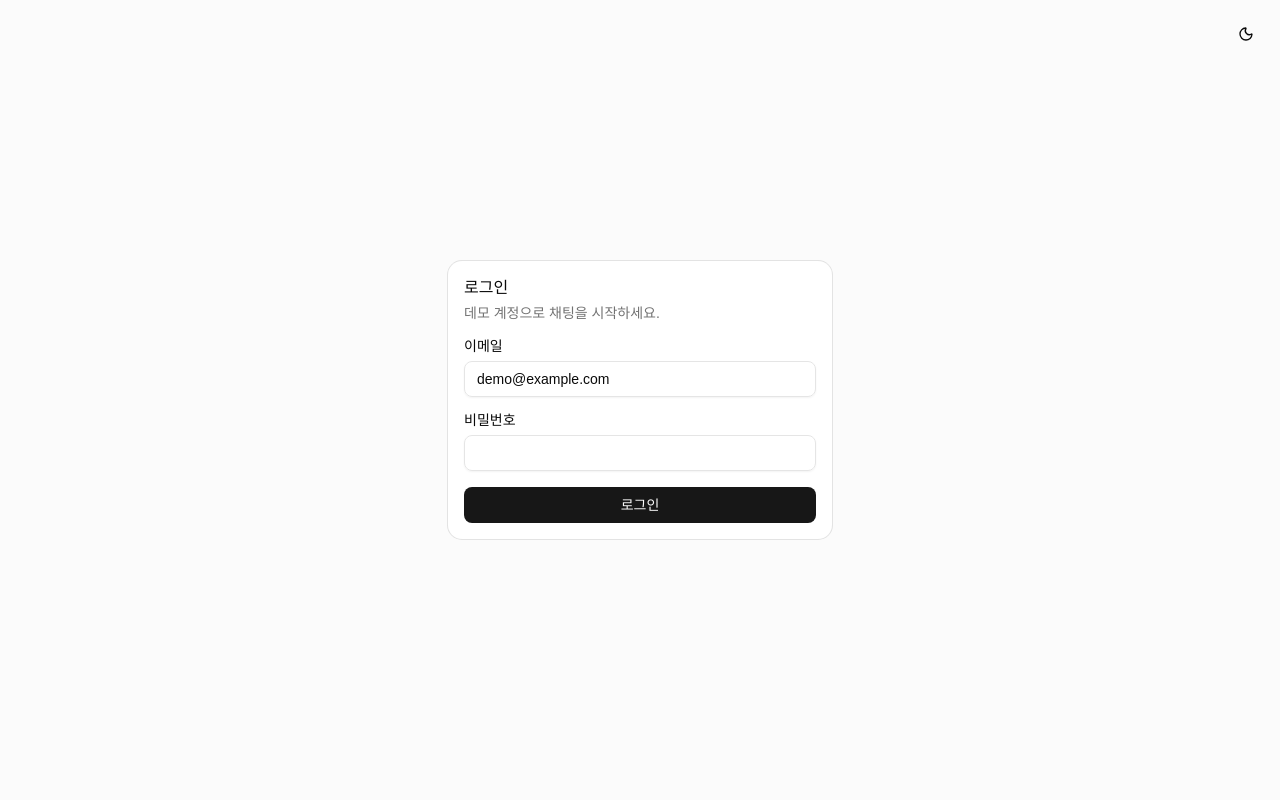
Test: auth routing › logs in and enters /chat
Type "wrong-pass" into the password field labelled "비밀번호". click: (640, 453)
box: 464,435 -> 816,471
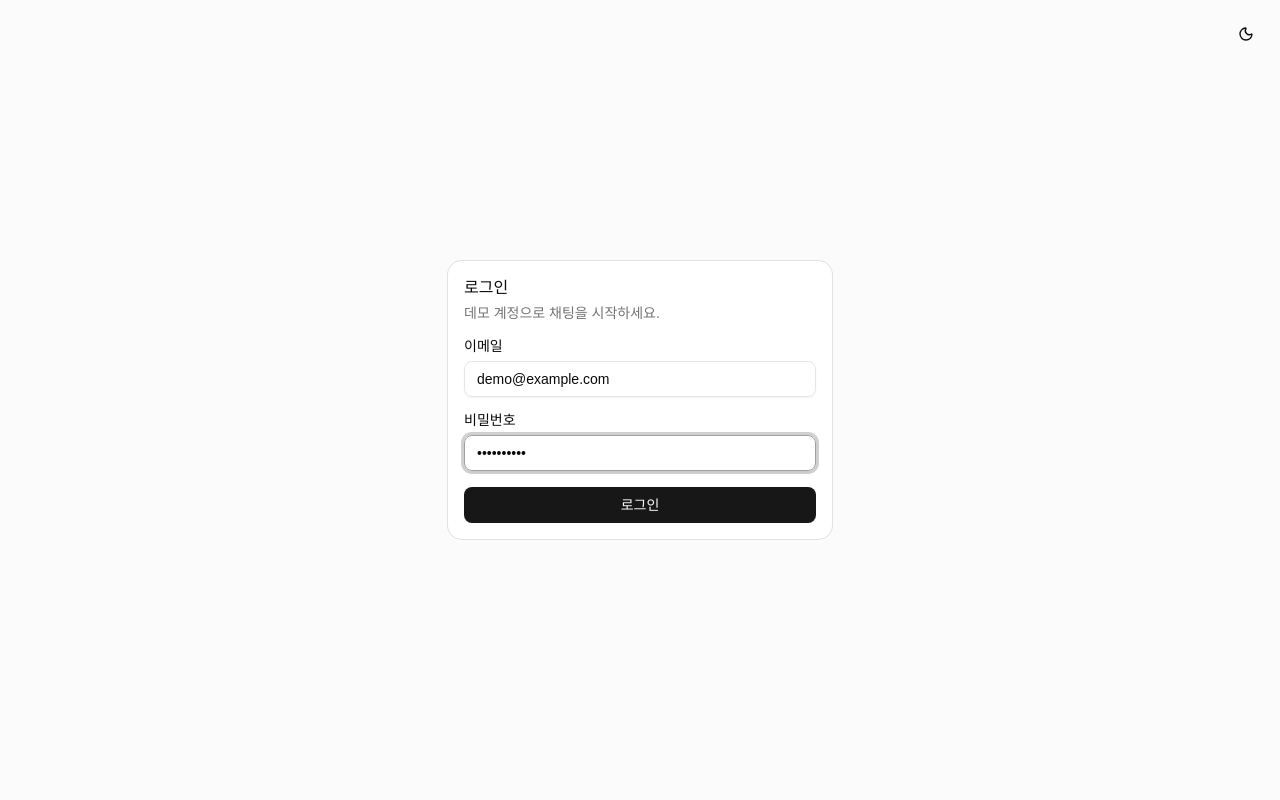
Click the button "로그인". click: (640, 505)
box: 464,487 -> 816,523
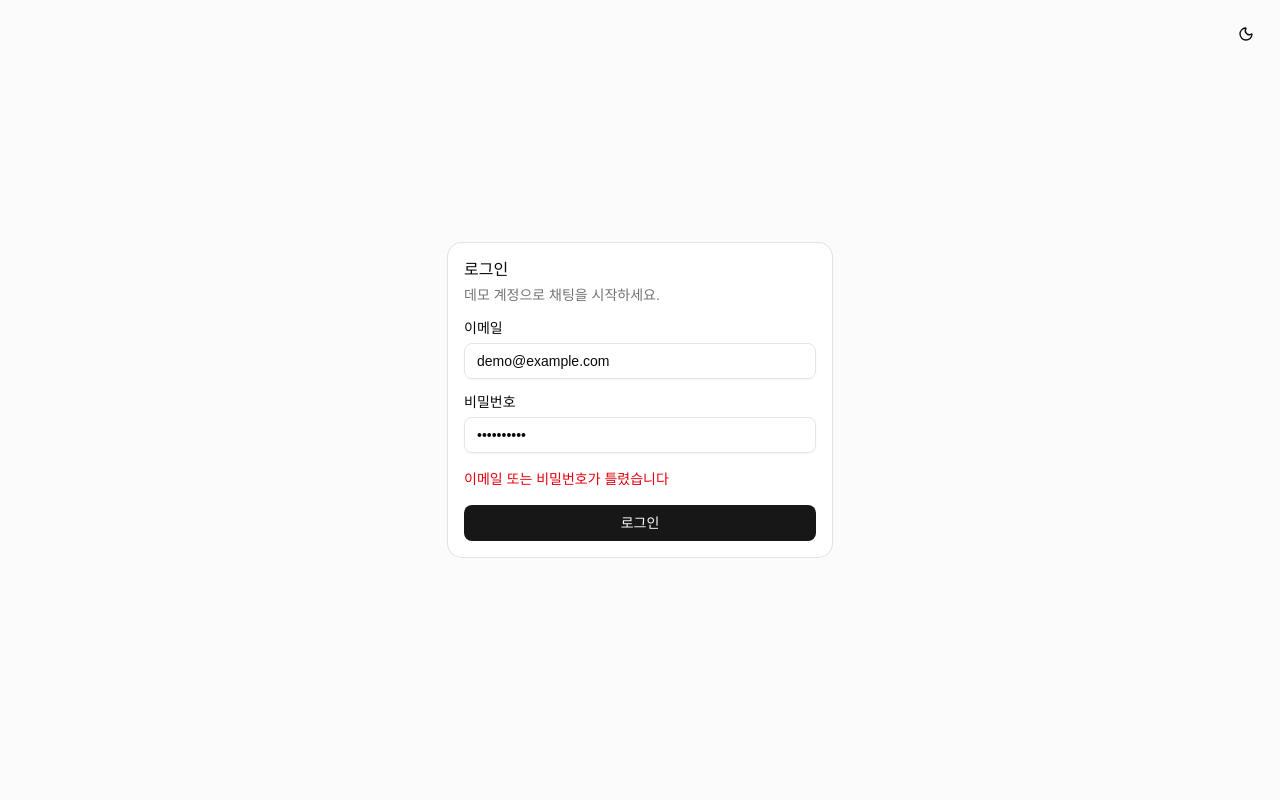
Now the message reads "이메일 또는 비밀번호가 틀렸습니다", box 464,471 -> 669,487
Type "demo1234" into the password field labelled "비밀번호". click: (640, 435)
box: 464,417 -> 816,453
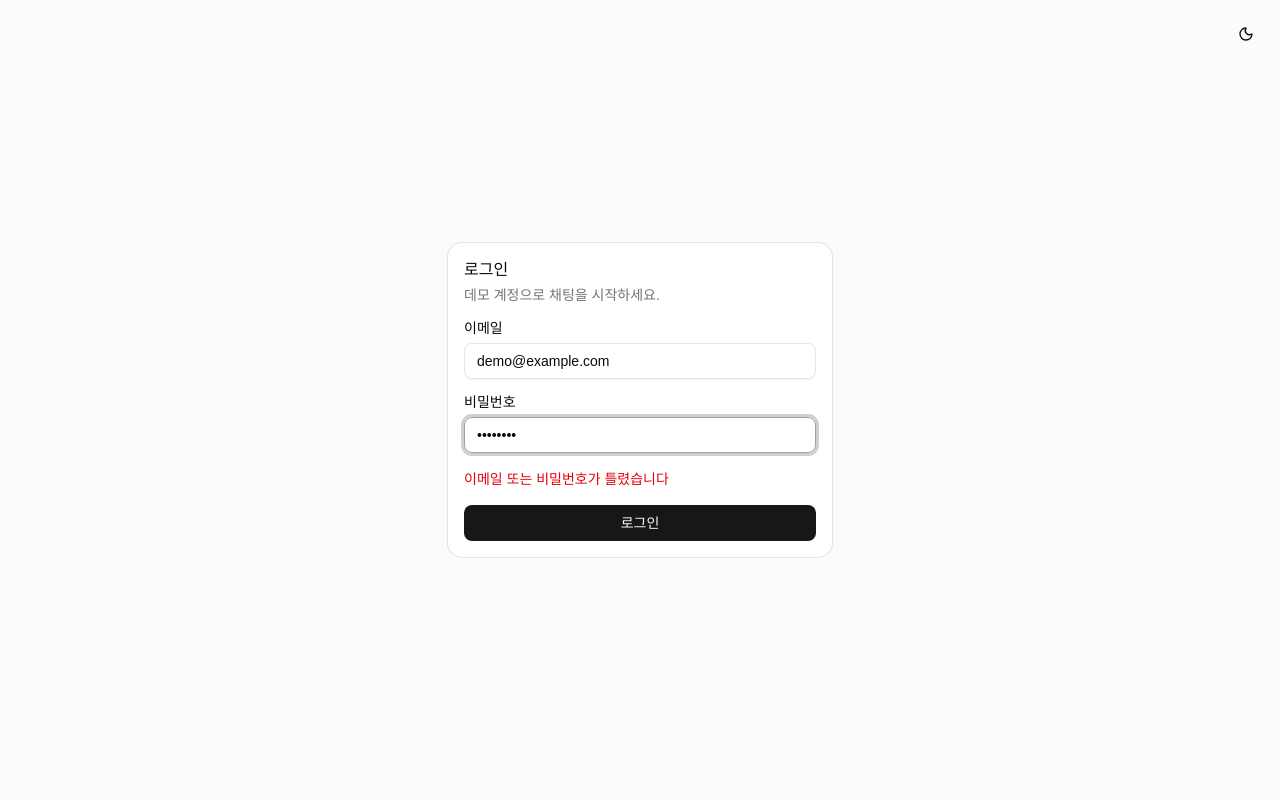
Click the button "로그인". click: (640, 523)
box: 464,505 -> 816,541
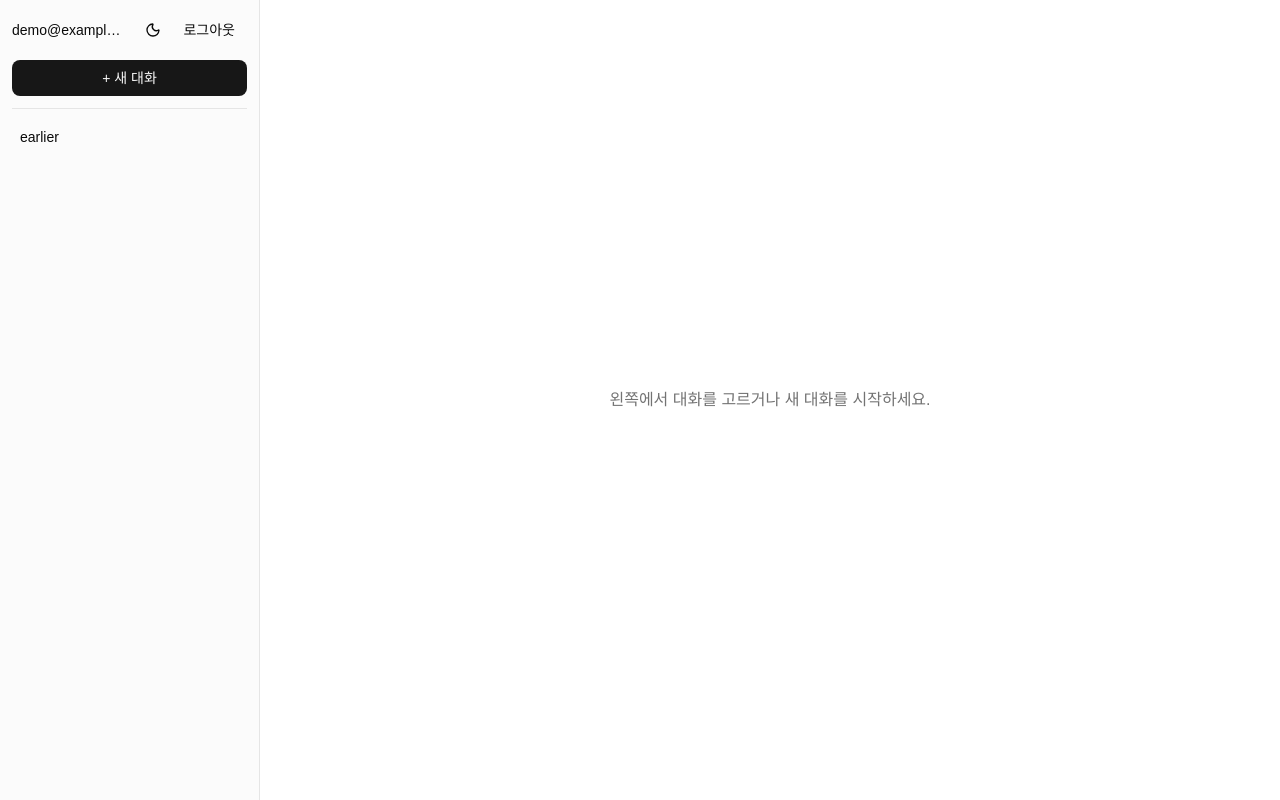
Now the link "earlier" is shown, box 20,129 -> 59,145
Now the text "demo@example.com" is shown, box 12,20 -> 128,40
